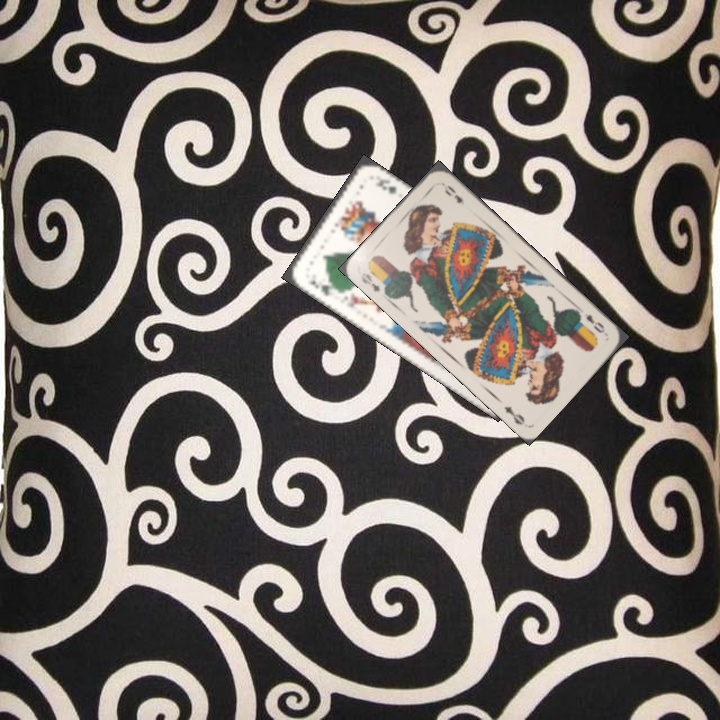EO: (575, 309, 608, 336), (357, 268, 383, 294)
GK: (306, 276, 339, 298)
